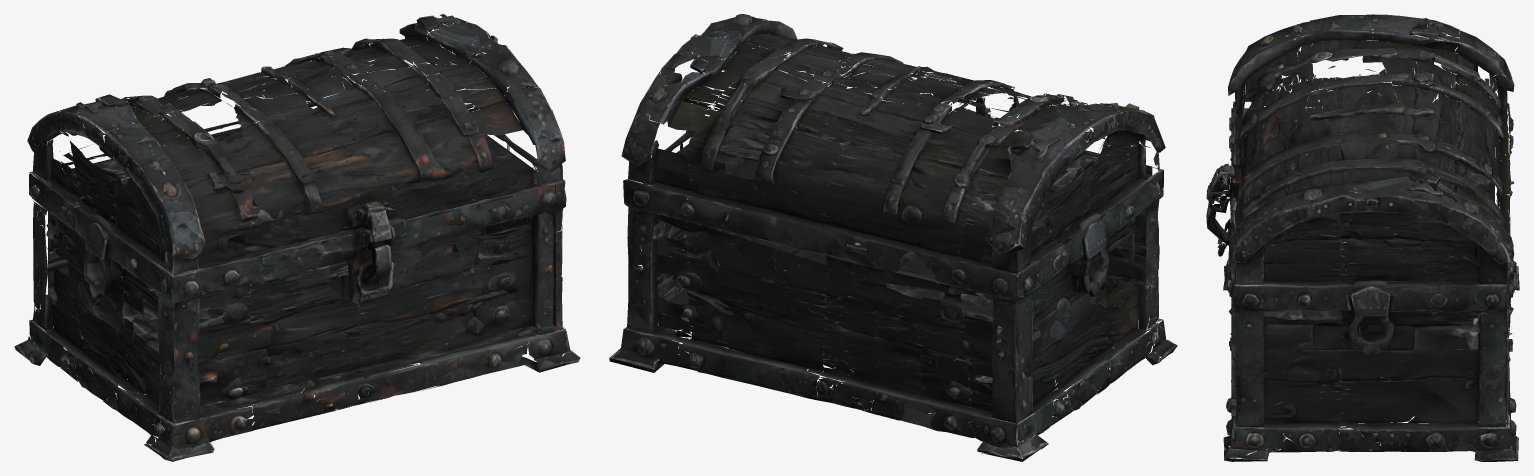
The model's file is dark_gothic_medieval_treasure_chest__iro_019e0a38.glb.
3 views of the same model, side by side, from view 1: azimuth 30°, elevation 25°; view 2: azimuth 150°, elevation 25°; view 3: azimuth 270°, elevation 25° (orthographic). The views are drawn at different scales.
Visible parts, largest first — view 1: ChestBody, ChestLid, ChestInterior, ChestLidUnderside; view 2: ChestBody, ChestLid, ChestInterior, ChestLidUnderside; view 3: ChestLid, ChestBody, ChestLidUnderside, ChestInterior.
Boxes of the visible parts, bbox=[...] form: ChestBody: bbox=[14, 121, 580, 461]; ChestLid: bbox=[27, 14, 565, 277]; ChestInterior: bbox=[48, 92, 555, 417]; ChestLidUnderside: bbox=[63, 91, 555, 276]; ChestBody: bbox=[609, 110, 1177, 461]; ChestLid: bbox=[621, 14, 1165, 275]; ChestInterior: bbox=[642, 100, 1152, 405]; ChestLidUnderside: bbox=[677, 88, 1151, 253]; ChestLid: bbox=[1206, 14, 1514, 287]; ChestBody: bbox=[1206, 103, 1519, 461]; ChestLidUnderside: bbox=[1231, 109, 1494, 281]; ChestInterior: bbox=[1231, 108, 1494, 415].
Bounding box in the file's own units: 0.9808 × 0.6212 × 0.665.
Materials: 2 (2 with a texture image).
